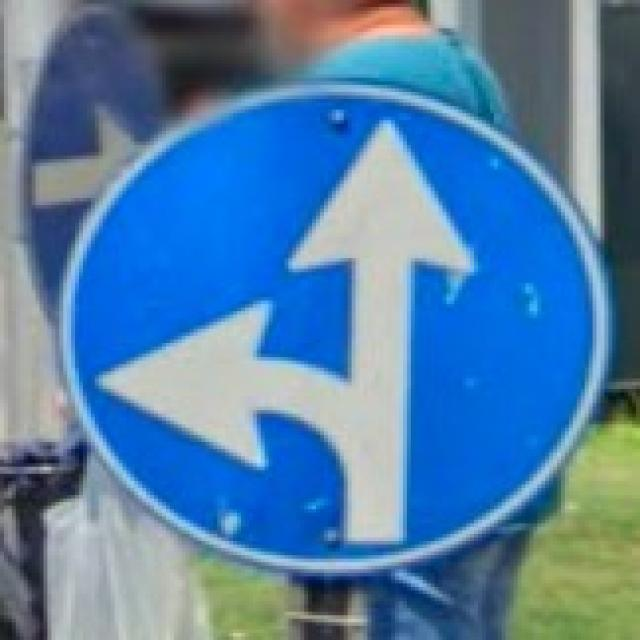Straight or Left: (65, 81, 610, 576)
